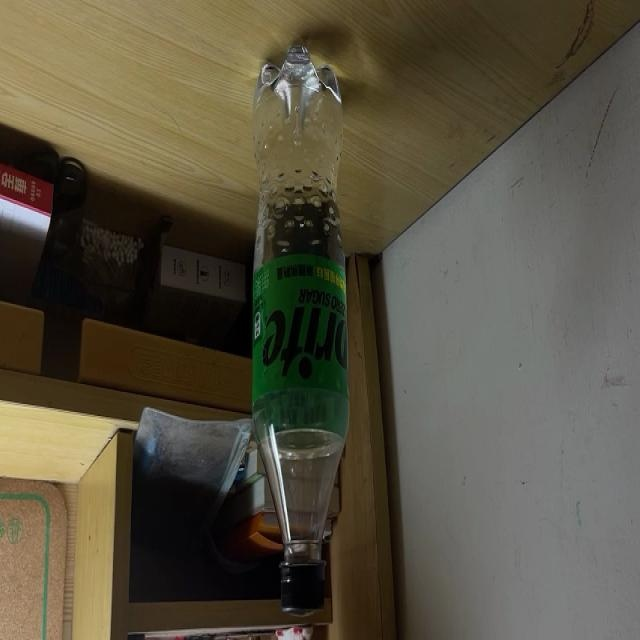Sprite: (251, 44, 348, 612)
